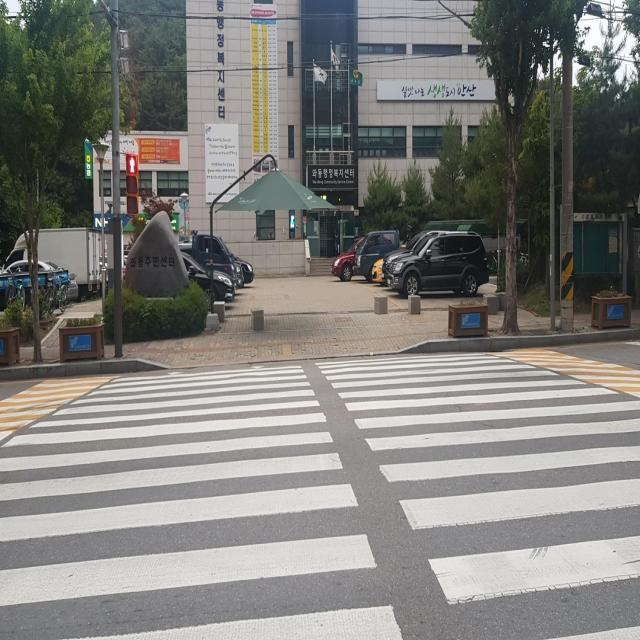빨간불: (127, 157, 138, 210)
횡단보도: (0, 350, 640, 640)
